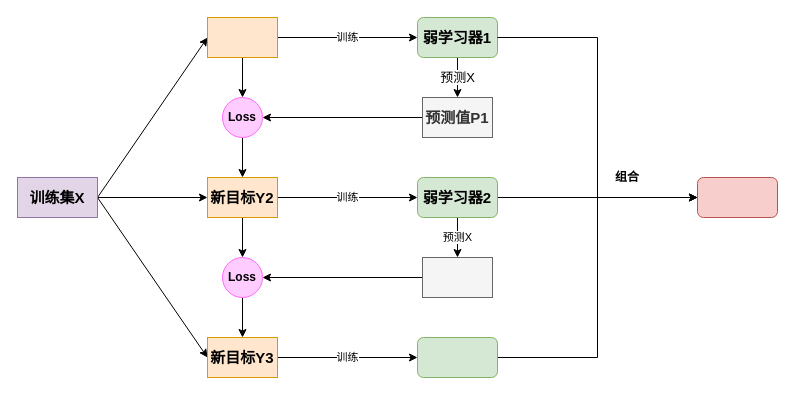
The diagram is 795 pixels wide and 395 high, and some of its shapes have lost their labels. The shapes that lost their labels are listed below. From the top down, each one's centre as x and y in pixels, then its label:
point 242,37: 目标Y1
point 737,197: 强分类器
point 457,277: 预测值P2
point 457,357: 弱学习器3
